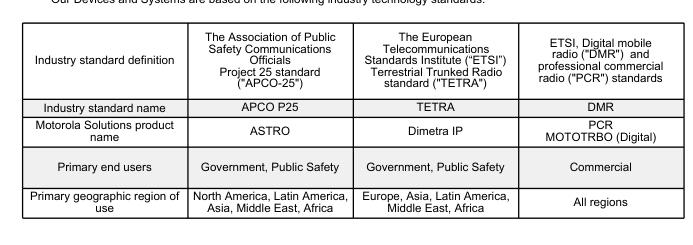table: (28, 29, 662, 213)
table column: (185, 29, 354, 213), (354, 29, 522, 213), (28, 29, 185, 213), (522, 29, 662, 213)
table column header: (28, 29, 662, 94)
table row: (28, 29, 662, 94), (28, 115, 662, 150), (28, 180, 662, 213), (28, 150, 662, 180), (28, 94, 662, 115)
